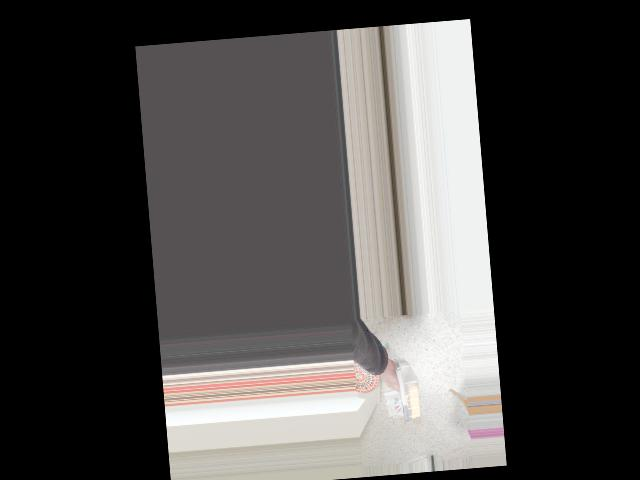cheese: (382, 360, 428, 424)
